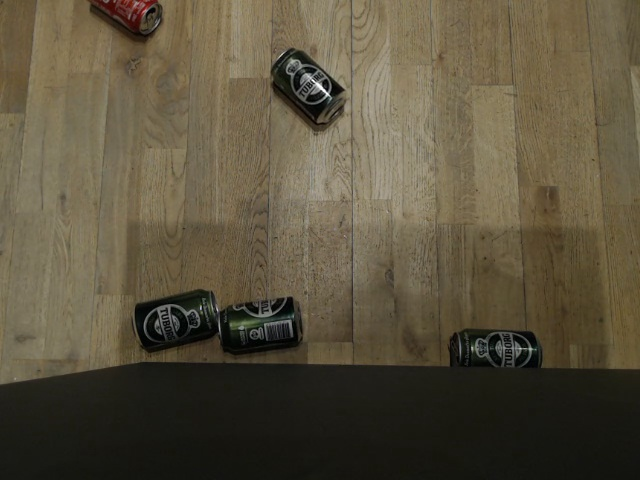beer: (266, 41, 351, 129), (128, 289, 220, 353), (218, 291, 308, 355), (446, 322, 544, 368)
cola: (85, 0, 165, 42)
